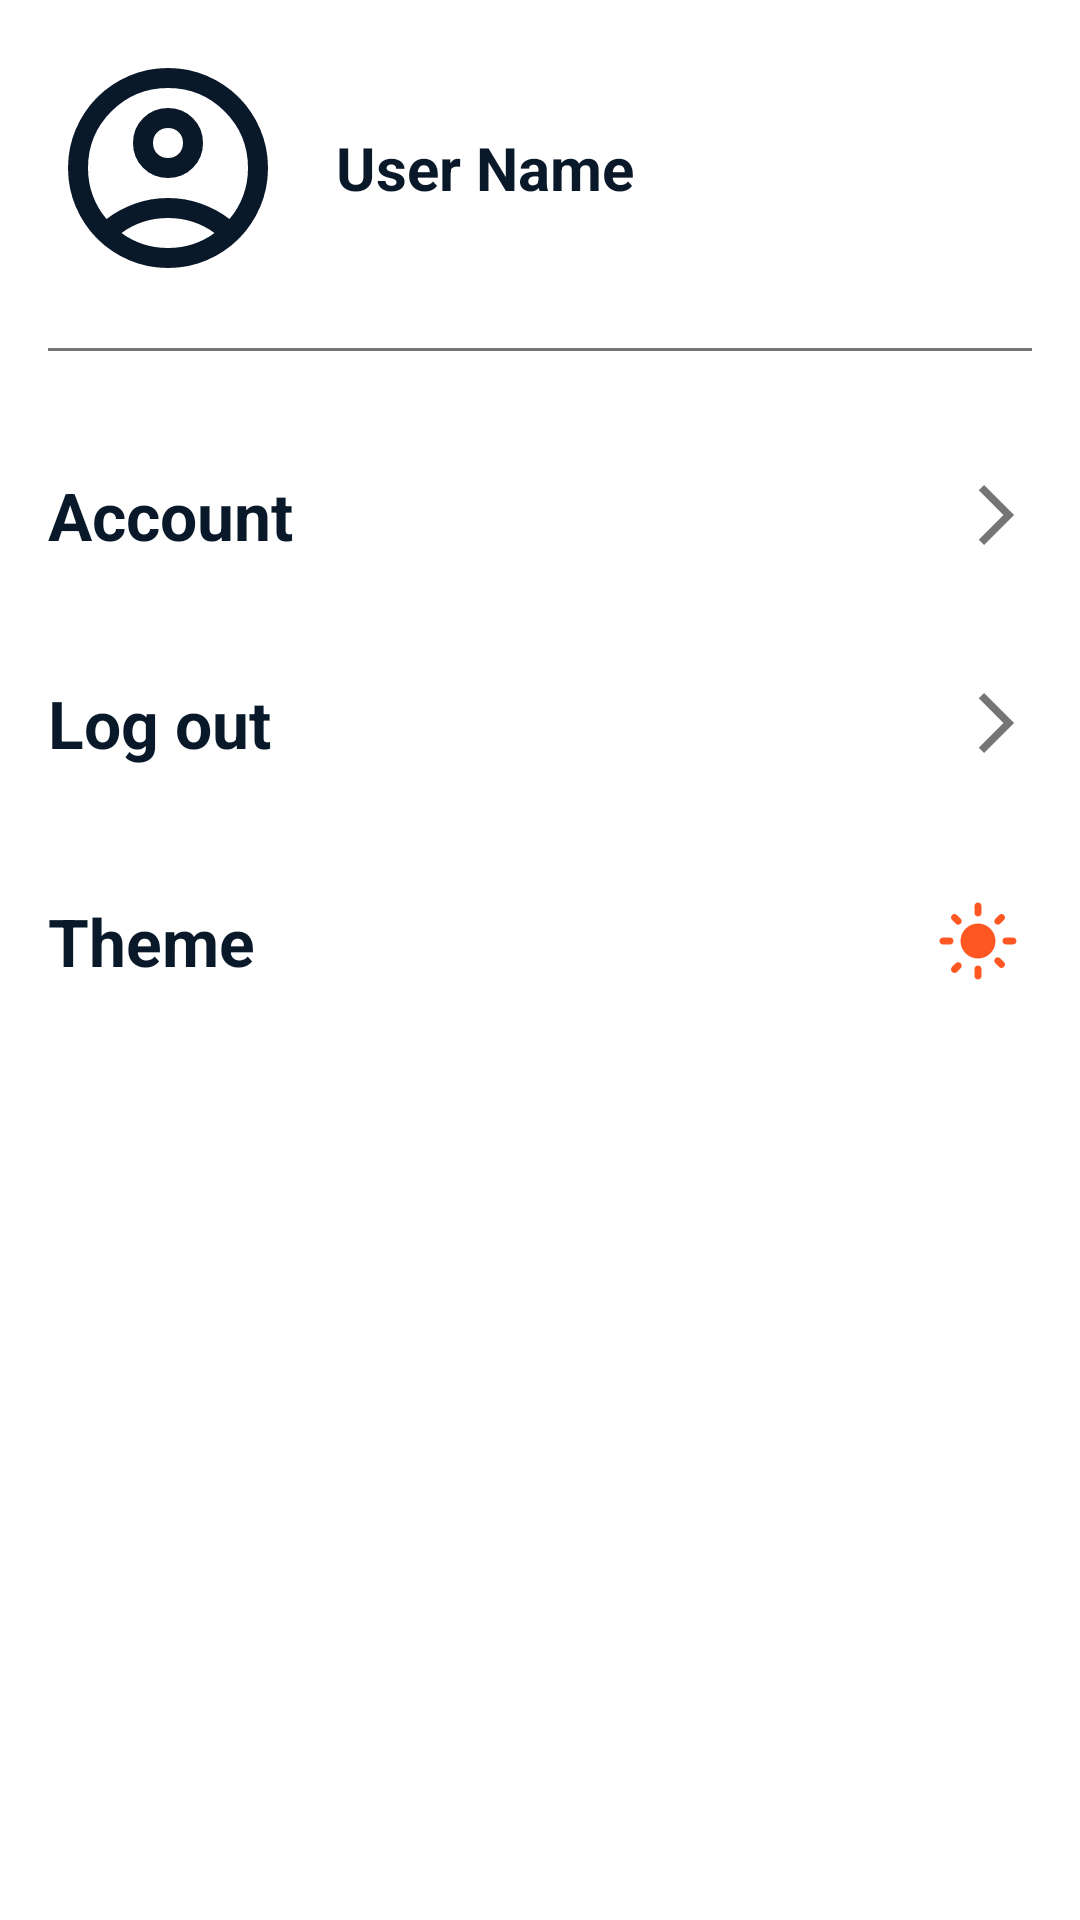

Screen size 1080 × 1920. Icon name, then its box in pixels as BBox(x1, y1, x2, y2):
arrow forward: BBox(979, 485, 1014, 545), BBox(979, 693, 1014, 753)
sun: BBox(939, 902, 1017, 980)
